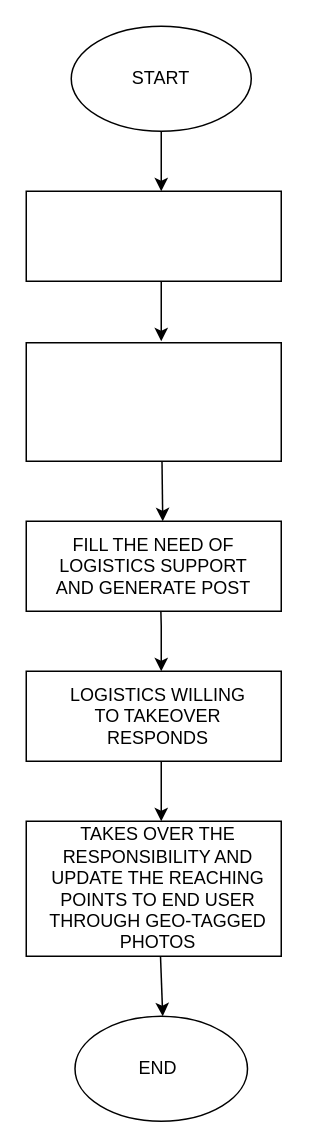
The diagram is 317 pixels wide and 1148 high, and some of its shapes have lost their labels. The centre of each missing label's shape, as x and y in pixels:
"DONOR OR OTHER USER WILLING TO DONATE RESPONDS" goes at pixel 153 401.
"NEED FOR NON-MONETARY FUNDS POST BY END USER" goes at pixel 153 235.
